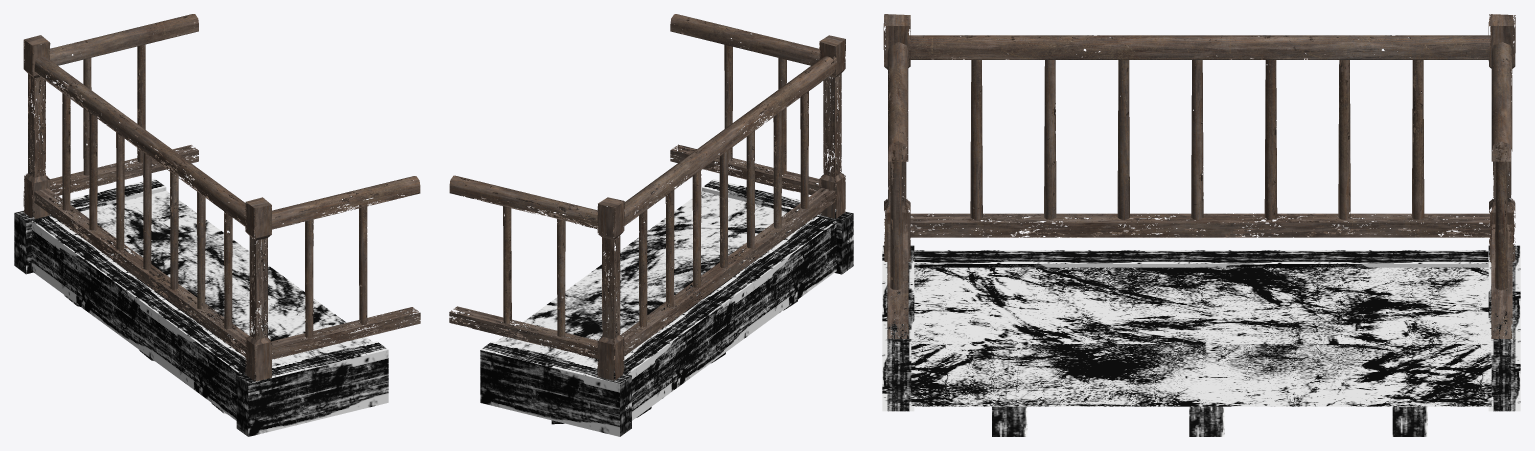
Rendered from SM_balcony_01.fbx.
3 renders of one model, left to right at view 1: azimuth 30°, elevation 25°; view 2: azimuth 150°, elevation 25°; view 3: azimuth 270°, elevation 25°, orthographic. The views are drawn at different scales.
Visible parts, largest first — view 1: SM_balcony_01_LOD0; view 2: SM_balcony_01_LOD0; view 3: SM_balcony_01_LOD0.
Part boxes in pixels (<box>): SM_balcony_01_LOD0: <box>14,14,420,436</box>; SM_balcony_01_LOD0: <box>449,14,853,436</box>; SM_balcony_01_LOD0: <box>882,14,1520,436</box>.
Bounding box in the file's own units: 103 × 240 × 149.
4 materials, 4 textured.
